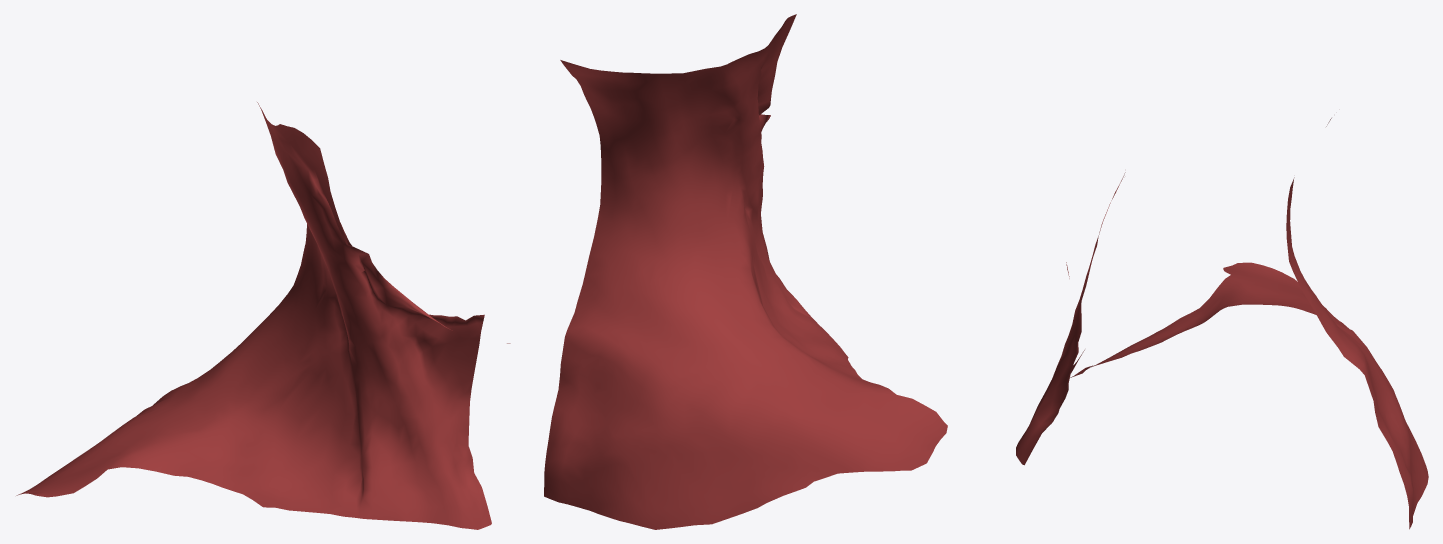
The model's file is superficial-investing-cervical-fascia-r.glb.
3 views of the same model, side by side, from view 1: azimuth 30°, elevation 25°; view 2: azimuth 150°, elevation 25°; view 3: azimuth 270°, elevation 25° (orthographic). The views are drawn at different scales.
Parts seen in each view (by area): view 1: Superficial investing cervical fascia.r; view 2: Superficial investing cervical fascia.r; view 3: Superficial investing cervical fascia.r.
Boxes of the visible parts, bbox=[...] form: Superficial investing cervical fascia.r: bbox=[16, 102, 510, 529]; Superficial investing cervical fascia.r: bbox=[544, 14, 947, 529]; Superficial investing cervical fascia.r: bbox=[1016, 118, 1428, 529].
Bounding box in the file's own units: 0.1762 × 0.2156 × 0.1938.
